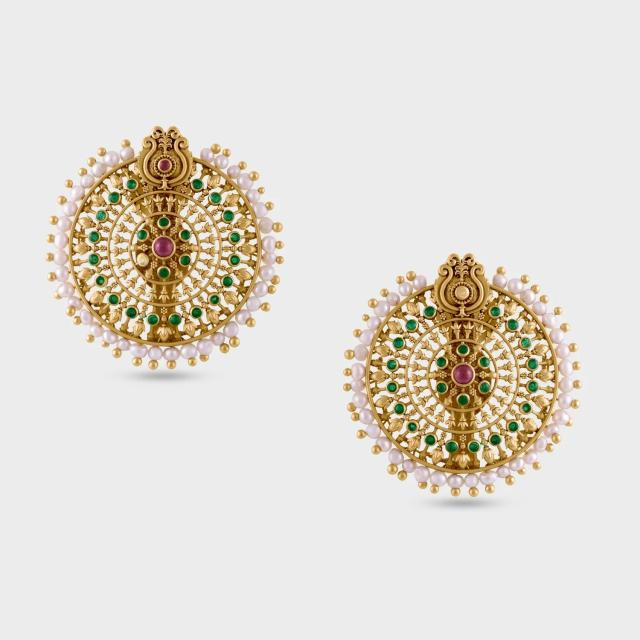missing gem: (457, 288, 468, 298), (138, 255, 147, 264)
